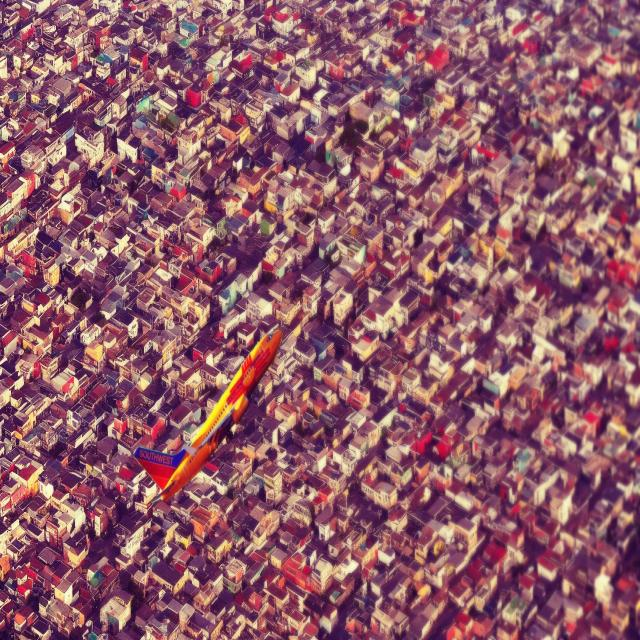airplane: (132, 322, 283, 514)
